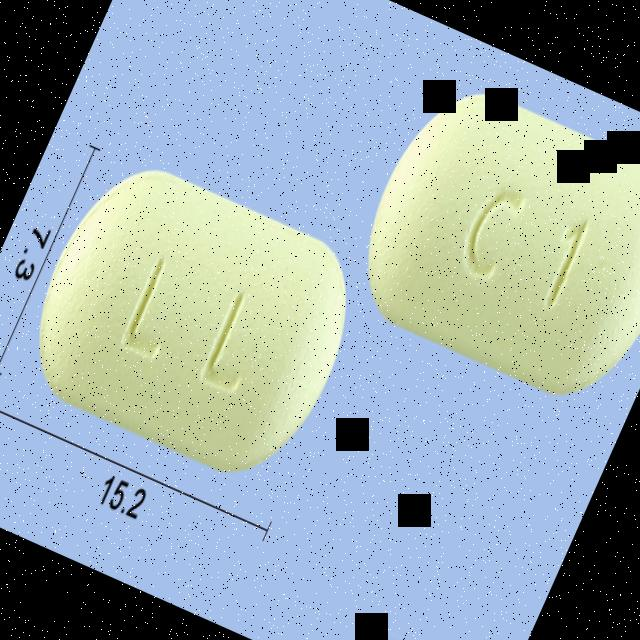Clratomin - 500mg: (6, 142, 382, 496), (335, 66, 640, 419)
